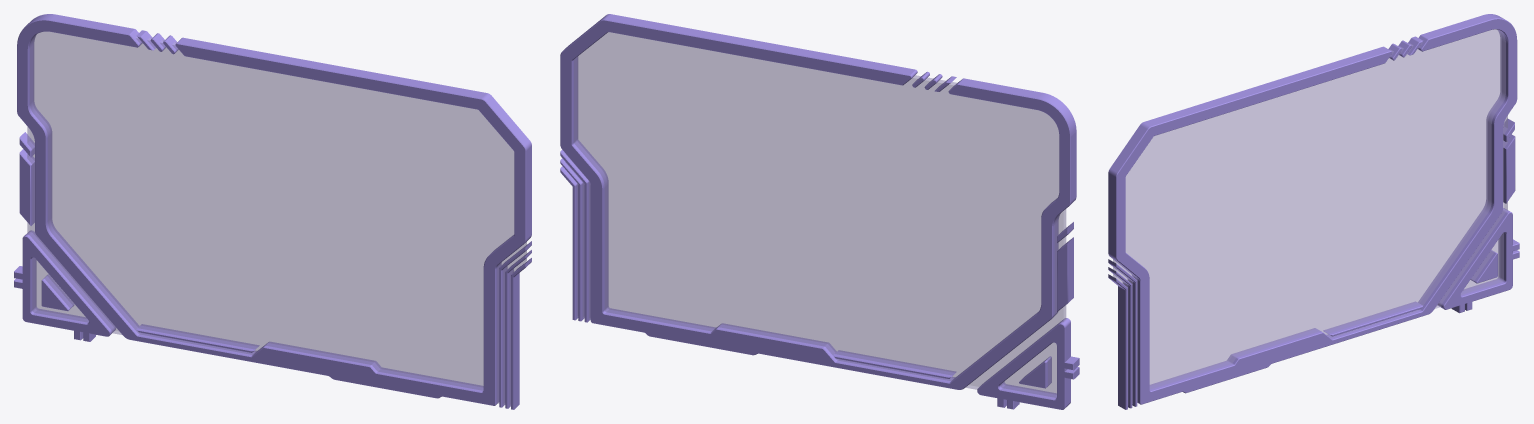
File: picture.glb
The picture shows the model from 3 angles, left to right: view 1: azimuth 30°, elevation 25°; view 2: azimuth 210°, elevation 25°; view 3: azimuth 270°, elevation 25°; orthographic projection. The views are drawn at different scales.
Parts seen in each view (by area): view 1: Extrude_2, Extrude_4; view 2: Extrude_2, Extrude_4; view 3: Extrude_2, Extrude_4.
Part boxes in pixels (x1=…): Extrude_2: x1=27, y1=31, x2=526, y2=405; Extrude_4: x1=14, y1=14, x2=531, y2=409; Extrude_2: x1=565, y1=32, x2=1066, y2=397; Extrude_4: x1=560, y1=14, x2=1079, y2=409; Extrude_2: x1=1113, y1=29, x2=1507, y2=403; Extrude_4: x1=1108, y1=14, x2=1519, y2=409.
Bounding box in the file's own units: 4.91 × 4.95 × 6.49.
